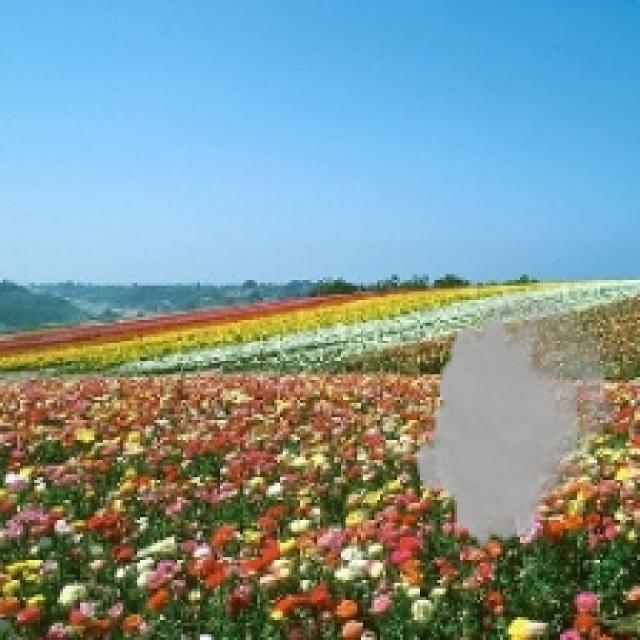smoke: (414, 294, 623, 552)
